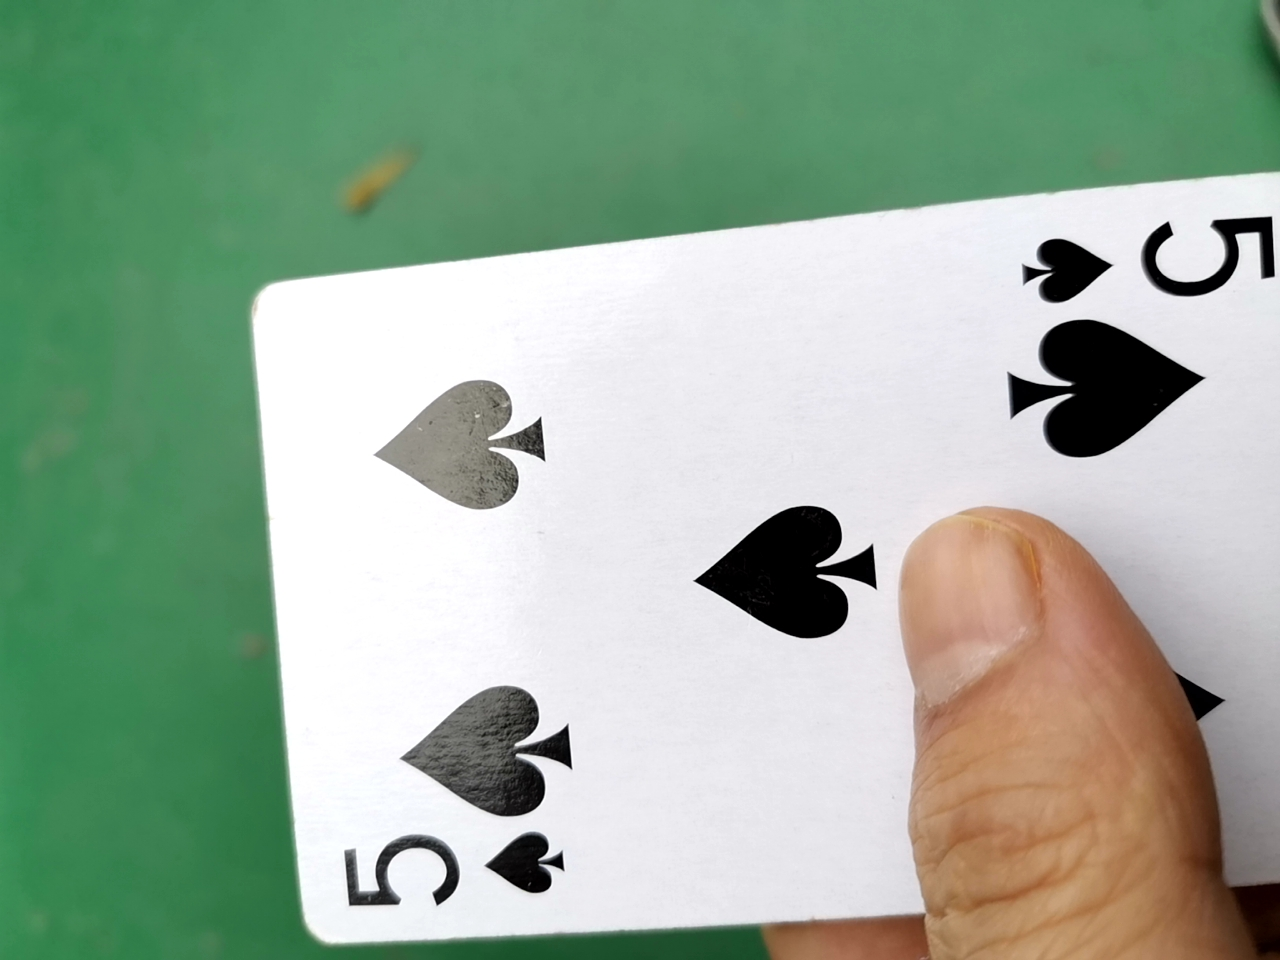ht 5: (227, 167, 1236, 957)
